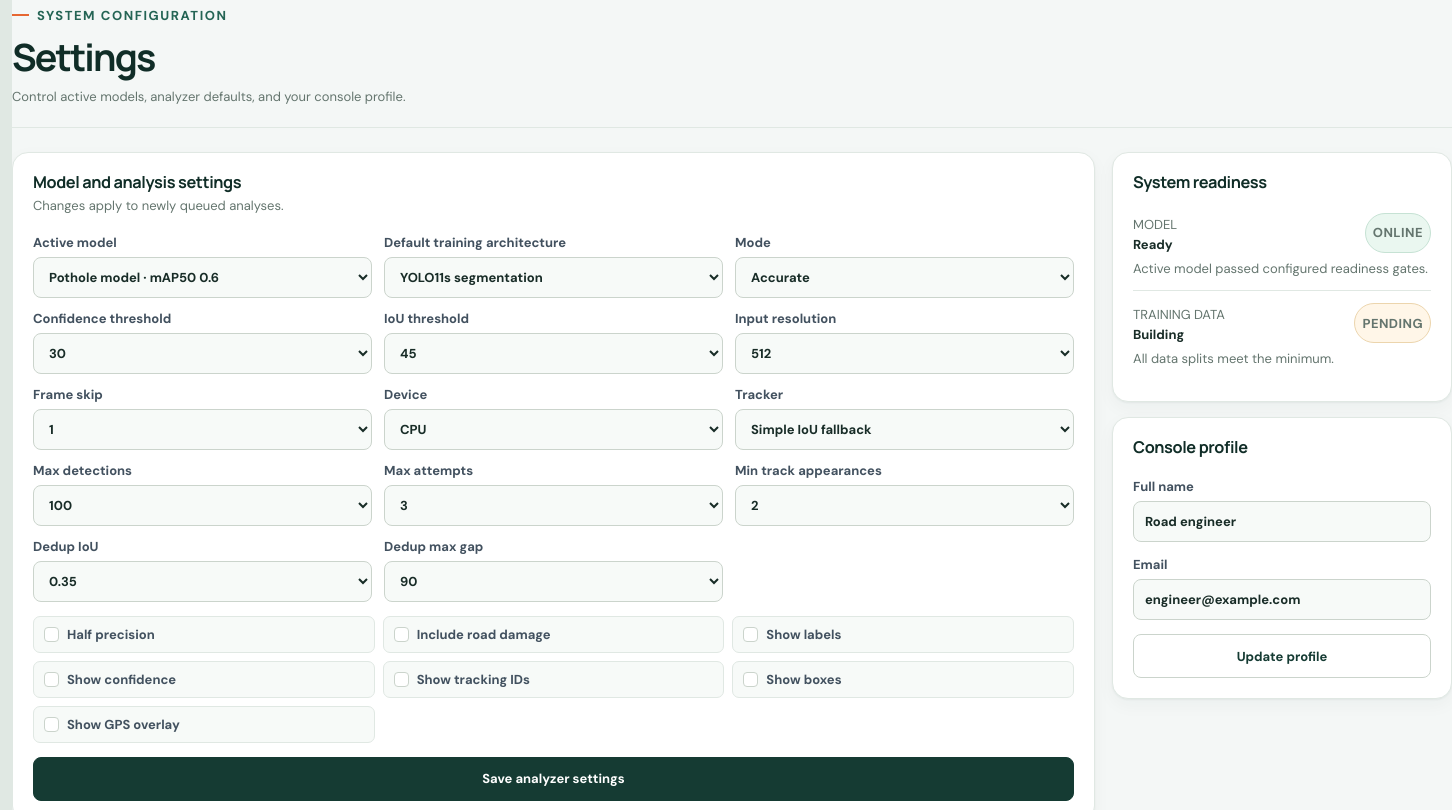
Test case: settings forms › shows analyzer validation errors without marking the profile form invalid
This screenshot has width=1452, height=810.
Click the button "Save analyzer settings". click: x=554, y=779
box: [33,757,1074,801]
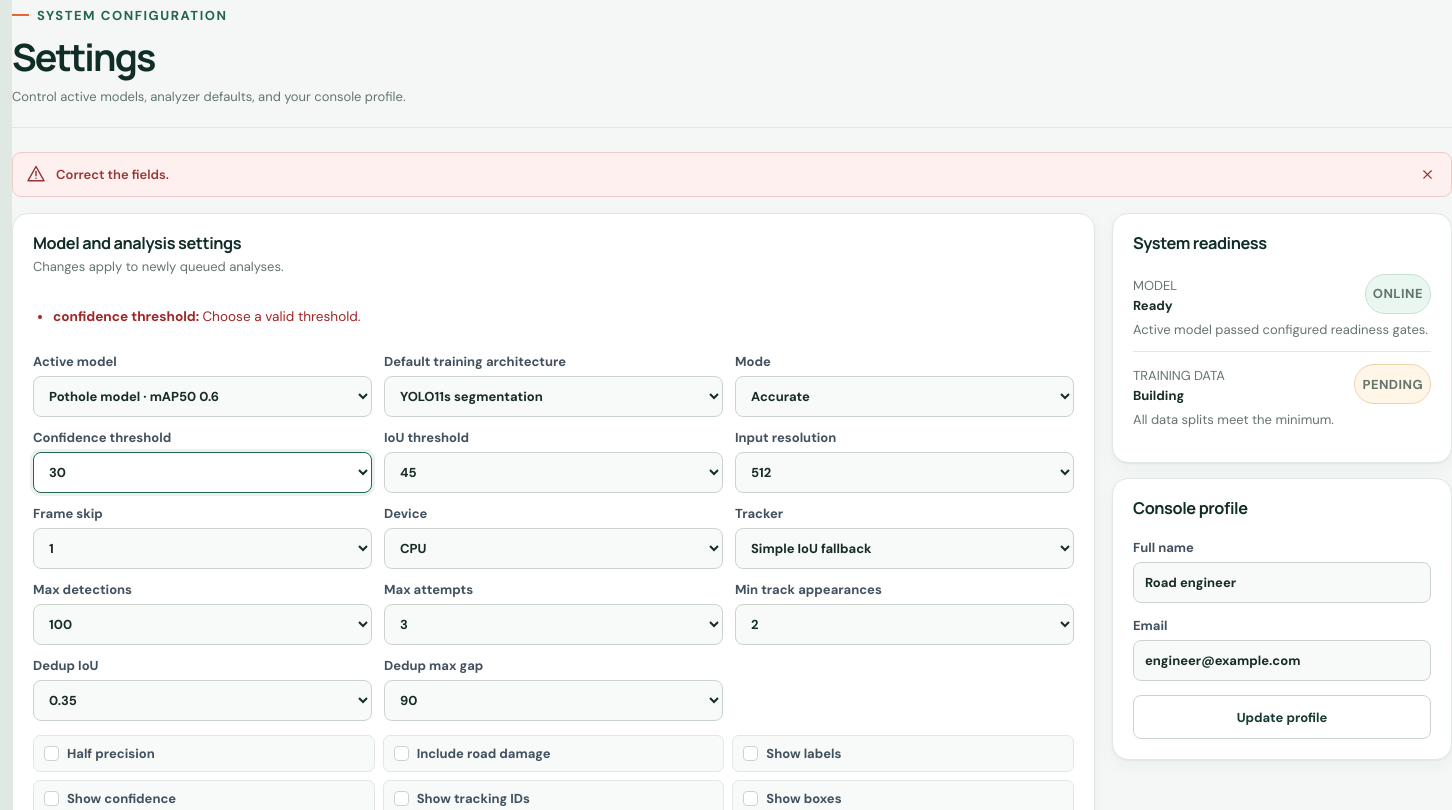
expect the dropdown labelled "Confidence threshold" shows "30": met, box [33,452,372,493]
expect the message "confidence threshold: Choose a valid threshold." is shown: met, box [53,308,360,325]
